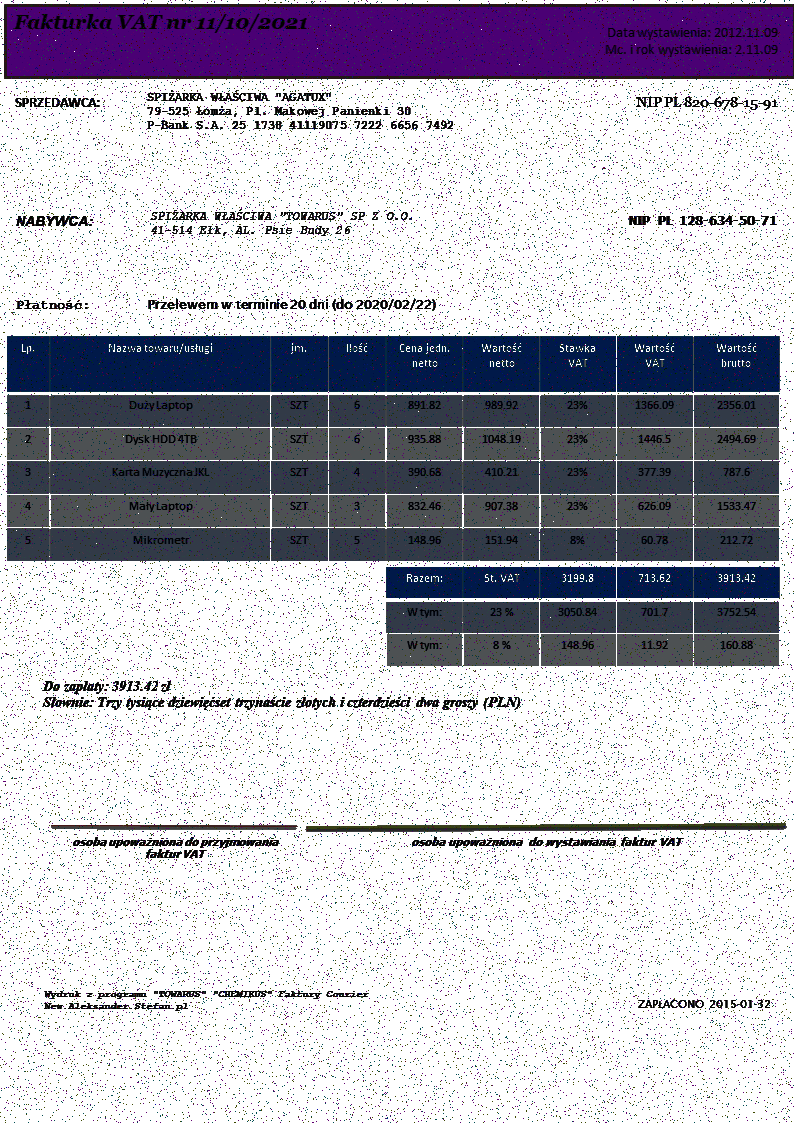Table: (4, 333, 780, 562), (385, 565, 780, 668)
TextBox: (39, 676, 523, 713), (142, 88, 455, 133), (40, 987, 371, 1014), (147, 207, 416, 238), (10, 10, 309, 34), (601, 23, 781, 57), (70, 833, 280, 861), (409, 833, 687, 852), (145, 297, 438, 314), (626, 211, 778, 229), (631, 94, 779, 112), (634, 995, 772, 1014), (12, 93, 101, 110), (13, 211, 94, 229), (14, 295, 91, 313)
